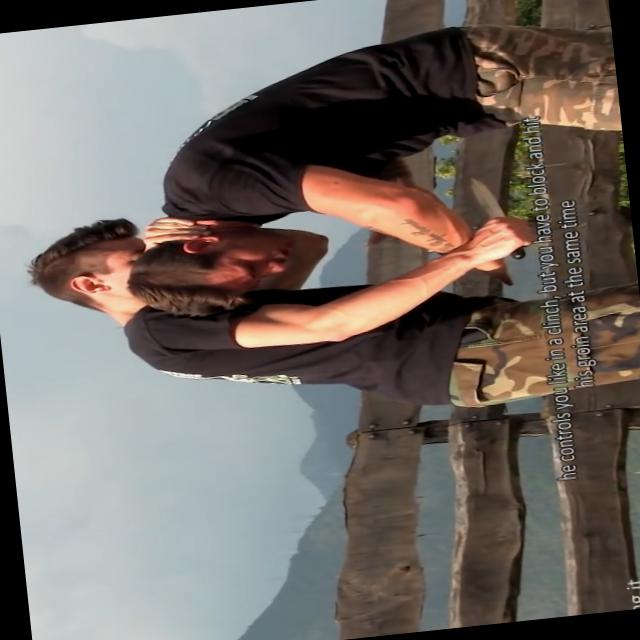knife: (453, 167, 536, 266)
